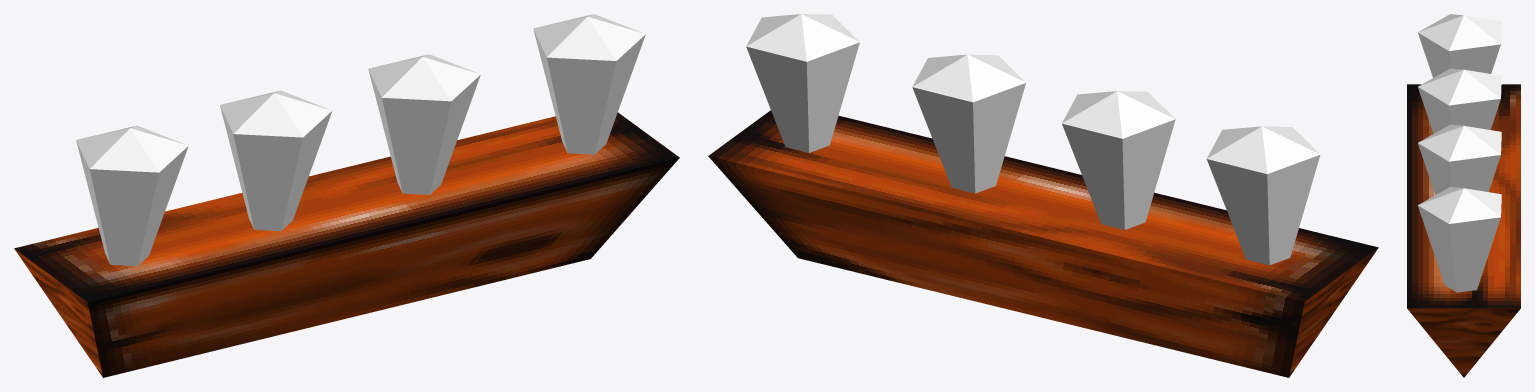
The model's file is Kabel_LichtmastQuerbalken_1538.glb.
3 renders of one model, left to right at view 1: azimuth 30°, elevation 25°; view 2: azimuth 150°, elevation 25°; view 3: azimuth 270°, elevation 25°, orthographic. The views are drawn at different scales.
Parts seen in each view (by area): view 1: pCylinderShape41, pSphereShape15, pSphereShape16, pSphereShape13, pSphereShape14; view 2: pCylinderShape41, pSphereShape13, pSphereShape16, pSphereShape15, pSphereShape14; view 3: pCylinderShape41, pSphereShape16, pSphereShape15, pSphereShape14, pSphereShape13.
Part boxes in pixels (x1,y1,x2,y2): pCylinderShape41: (14,112,679,377); pSphereShape15: (368,54,480,194); pSphereShape16: (533,14,645,154); pSphereShape13: (76,125,188,266); pSphereShape14: (220,90,332,231); pCylinderShape41: (708,110,1378,377); pSphereShape13: (1206,126,1320,265); pSphereShape16: (746,14,859,152); pSphereShape15: (912,54,1025,193); pSphereShape14: (1062,91,1175,229); pCylinderShape41: (1407,84,1520,377); pSphereShape16: (1418,187,1501,292); pSphereShape15: (1418,124,1501,194); pSphereShape14: (1418,68,1501,133); pSphereShape13: (1418,14,1501,77).
Bounding box in the file's own units: 0.1601 × 0.0628 × 0.0344.
Materials: 5 (1 with a texture image).
